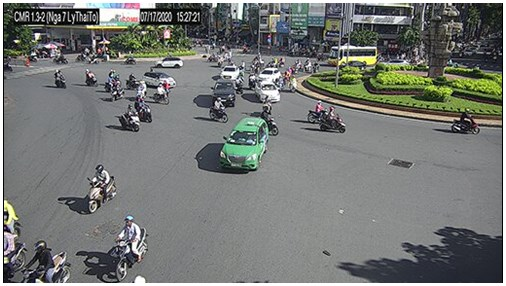xe_buyt: (328, 46, 377, 67)
xe_hoi: (220, 117, 269, 173), (211, 79, 236, 106), (144, 71, 177, 89), (255, 81, 280, 102), (260, 68, 282, 83), (219, 65, 239, 80), (155, 58, 183, 68), (380, 59, 409, 68)
xe_may: (111, 215, 150, 282), (22, 241, 71, 283), (87, 165, 117, 213), (451, 108, 482, 136), (320, 105, 345, 133), (119, 103, 141, 133), (306, 100, 331, 124), (258, 109, 278, 137), (135, 95, 152, 123), (209, 97, 228, 122), (153, 83, 168, 104), (111, 83, 126, 102), (53, 69, 67, 88), (85, 69, 98, 87), (52, 51, 67, 65), (234, 75, 245, 94), (249, 72, 260, 91), (105, 75, 118, 91), (128, 72, 140, 89), (137, 80, 147, 100), (77, 50, 91, 63), (250, 56, 261, 71), (263, 95, 271, 115), (266, 55, 277, 68), (124, 55, 137, 65), (289, 75, 296, 93), (292, 57, 301, 71), (238, 60, 246, 75), (303, 57, 311, 71), (312, 59, 320, 73), (207, 53, 217, 62)
